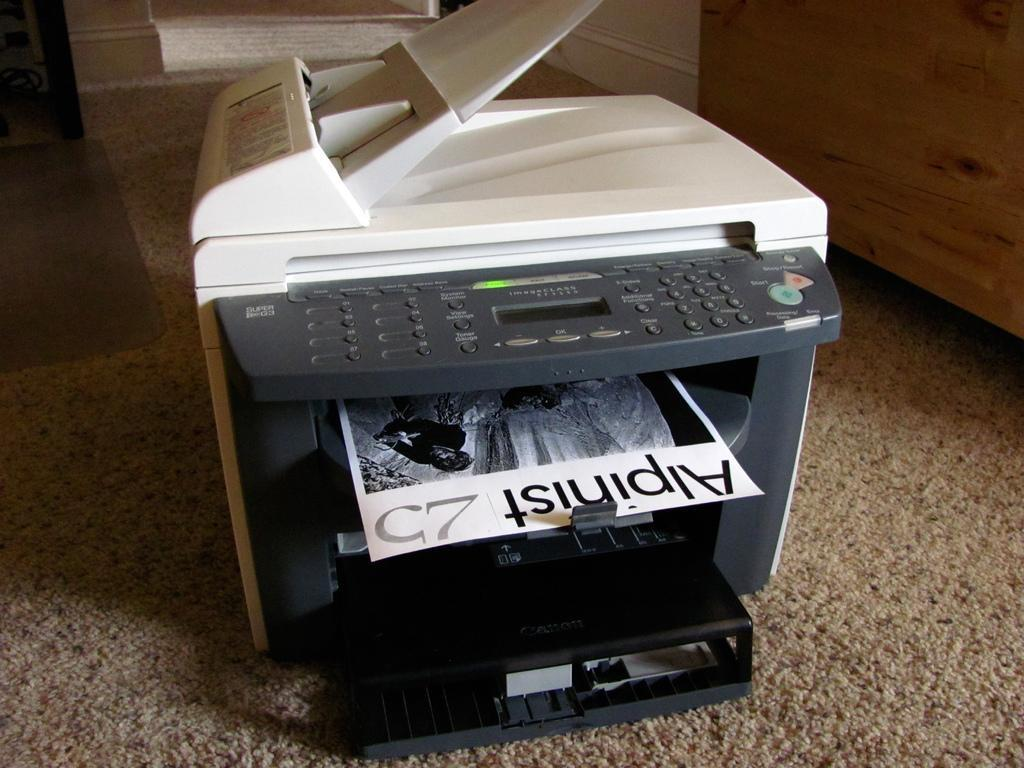Printer: (188, 0, 842, 759)
